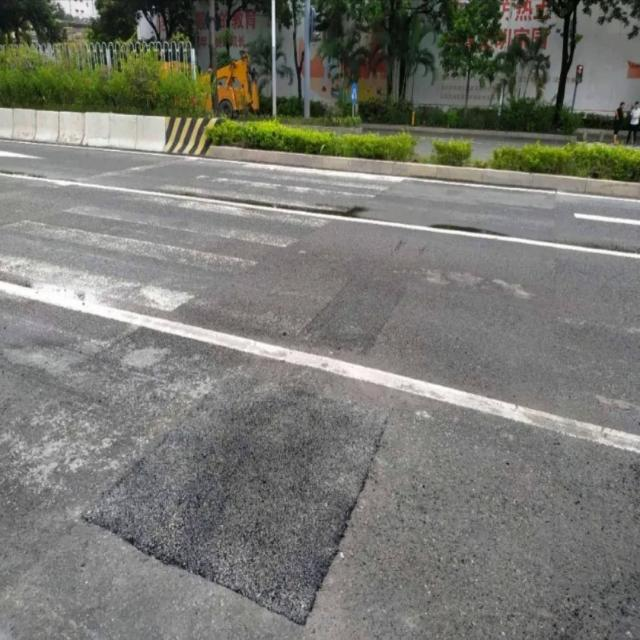Pothole: (77, 361, 401, 623)
